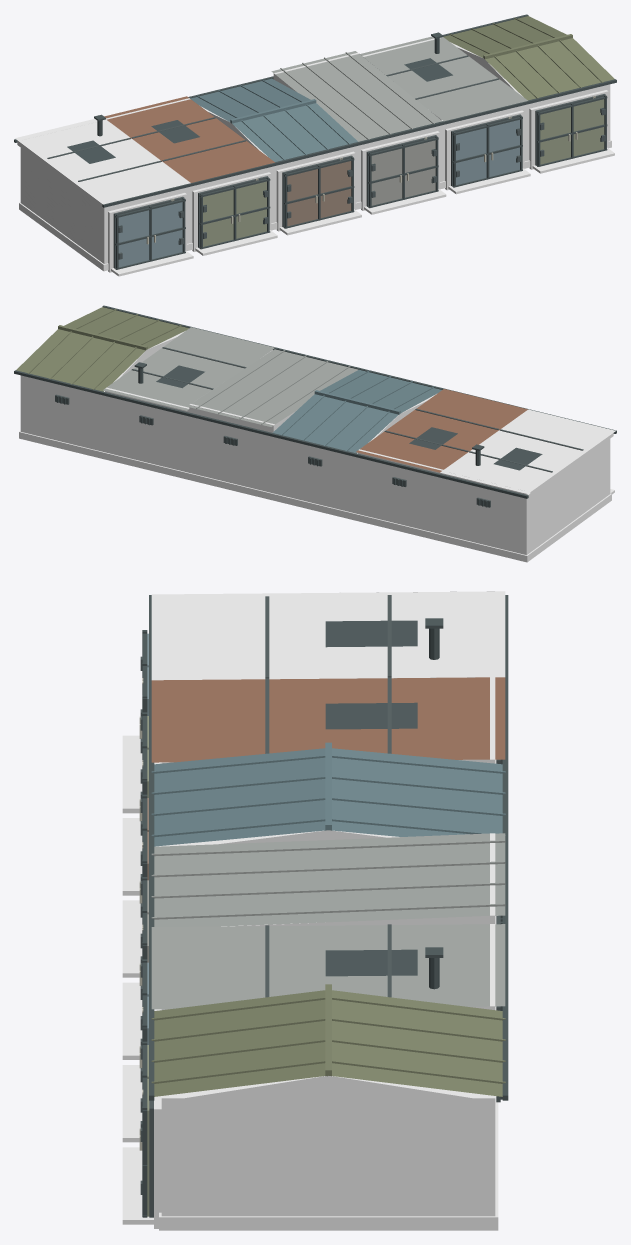
Rendered from frontier_garage_row_4.glb.
The picture shows the model from 3 angles, top to bottom: view 1: azimuth 30°, elevation 25°; view 2: azimuth 150°, elevation 25°; view 3: azimuth 270°, elevation 25°; orthographic projection. The views are drawn at different scales.
Parts seen in each view (by area): view 1: frontier_garage_row_4; view 2: frontier_garage_row_4; view 3: frontier_garage_row_4.
Part boxes in pixels (box(x1,y1,x2,y2)): frontier_garage_row_4: box(14, 14, 616, 276); frontier_garage_row_4: box(14, 305, 616, 562); frontier_garage_row_4: box(122, 591, 508, 1230).
Bounding box in the file's own units: 21.3 × 3.55 × 6.93.
